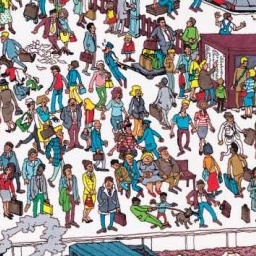waldo: (120, 120, 137, 153), (120, 119, 135, 137)
